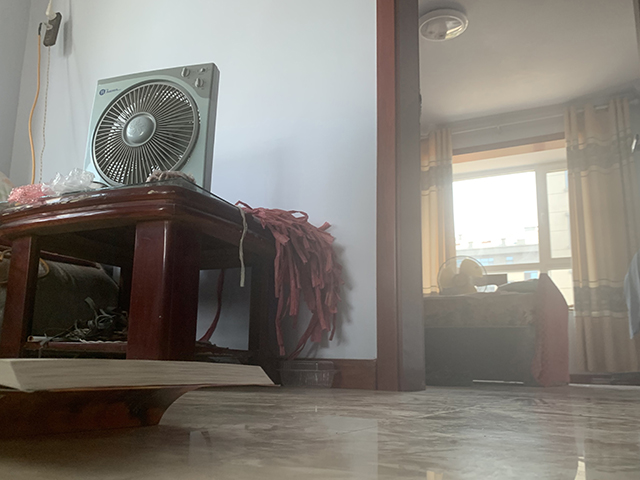bed: (423, 270, 571, 388)
book: (1, 357, 283, 434)
curtain: (564, 92, 640, 375)
stool: (1, 175, 291, 387)
